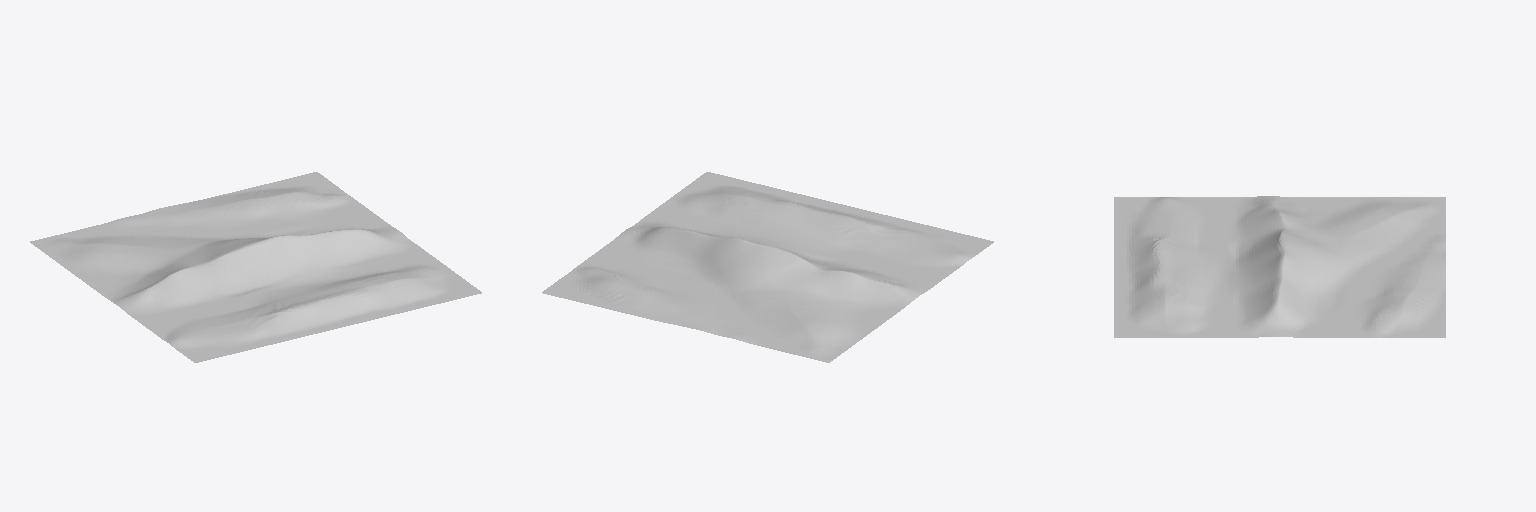
File: Sand2.obj
3 renders of one model, left to right at view 1: azimuth 30°, elevation 25°; view 2: azimuth 150°, elevation 25°; view 3: azimuth 270°, elevation 25°, orthographic.
Parts seen in each view (by area): view 1: Cube; view 2: Cube; view 3: Cube.
Part boxes in pixels (x1,y1,x2,y2): Cube: (30,172,481,362); Cube: (542,172,993,362); Cube: (1114,196,1445,337).
Bounding box in the file's own units: 281 × 22.37 × 280.